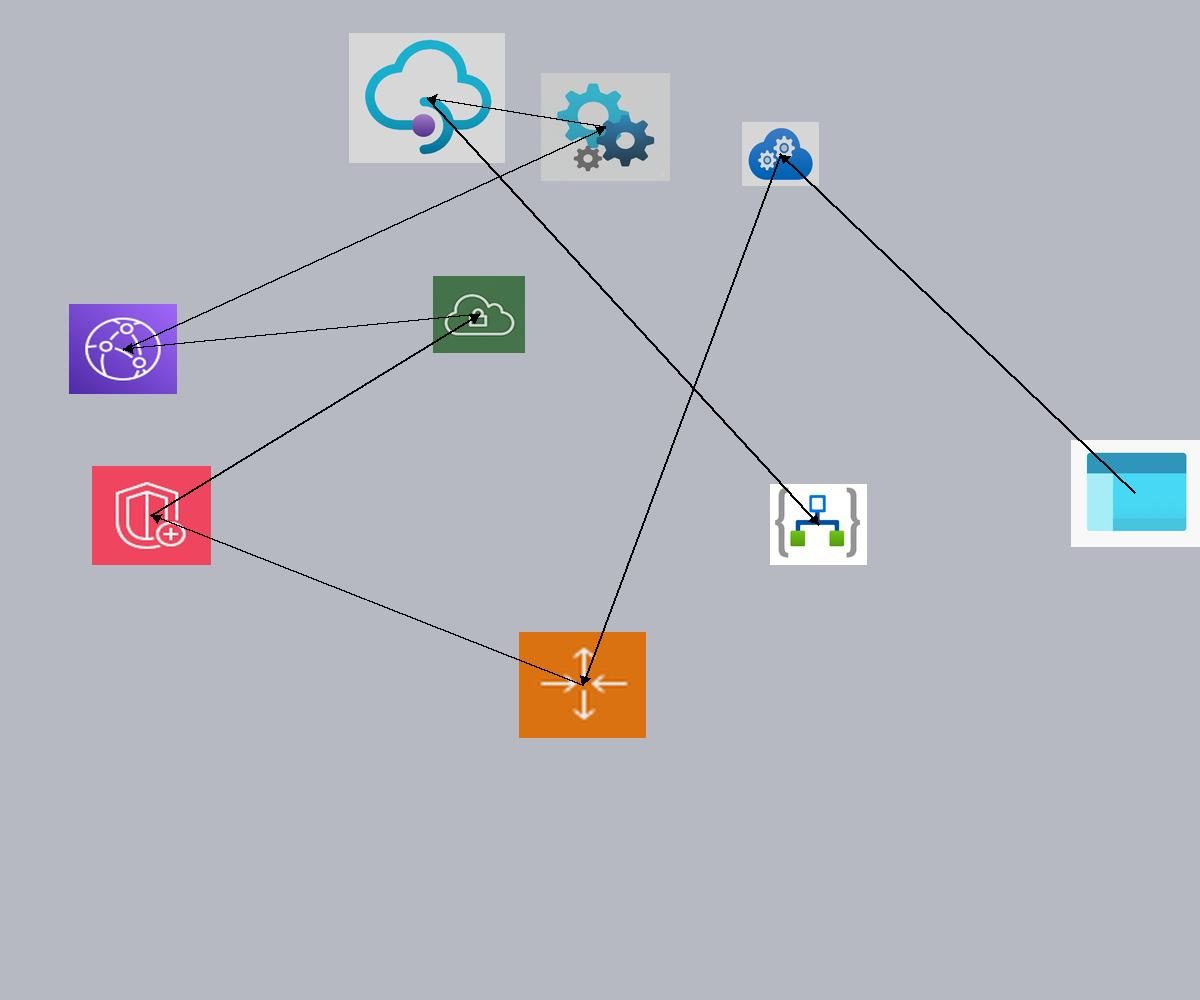AWS-CloudFront: (69, 304, 177, 394)
AWS-Private_vpc: (433, 276, 525, 353)
AWS-Scaling-group: (519, 632, 646, 738)
AWS-Shield: (92, 466, 211, 565)
Azure_api: (541, 73, 670, 181)
Azure_api_gateway: (349, 33, 505, 163)
Azure_cloud_services: (742, 122, 819, 186)
Azure_integration-204-Logic-Apps: (770, 484, 867, 565)
Azure_management-portal: (1071, 440, 1200, 547)
